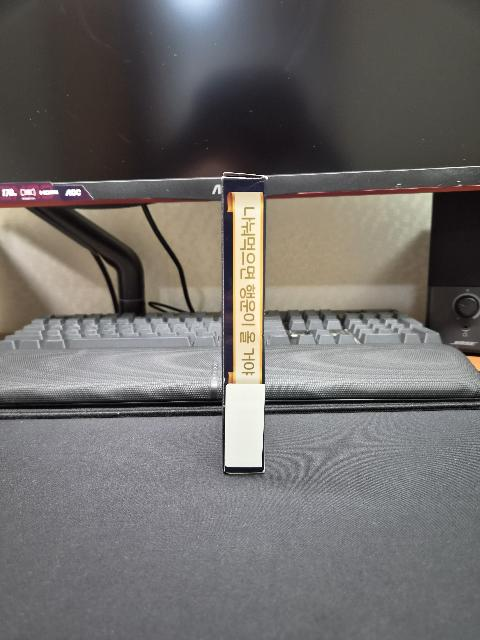pepero: (221, 172, 268, 474)
